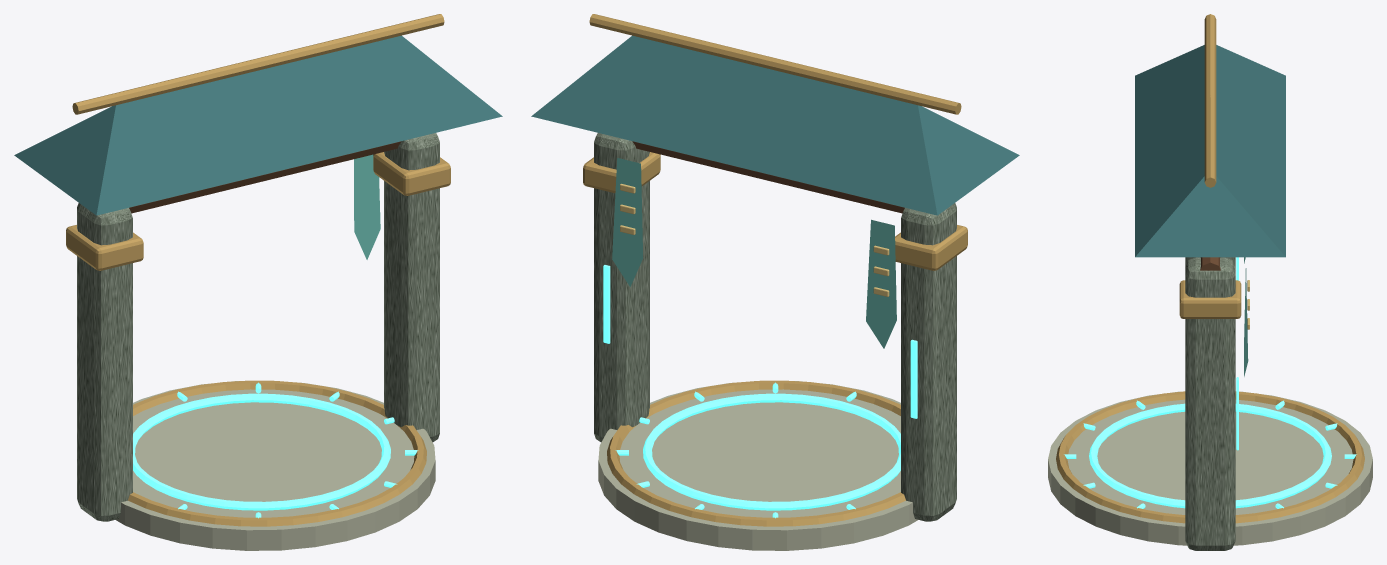
Rendered from portal.glb.
3 renders of one model, left to right at view 1: azimuth 30°, elevation 25°; view 2: azimuth 150°, elevation 25°; view 3: azimuth 270°, elevation 25°, orthographic. The views are drawn at different scales.
Visible parts, largest first — view 1: AncientGateRoof, PortalPedestal, Static_stone.003, Static_gold.003, Static_jade, Static_teal, CrossBeam; view 2: AncientGateRoof, PortalPedestal, Static_stone.003, Static_gold.003, Static_jade, Static_teal, CrossBeam, Static_gold_light; view 3: AncientGateRoof, PortalPedestal, Static_stone.003, Static_gold.003, Static_jade.
Part boxes in pixels (x1=…): AncientGateRoof: x1=14, y1=35, x2=502, y2=215; PortalPedestal: x1=115, y1=381, x2=435, y2=550; Static_stone.003: x1=77, y1=133, x2=439, y2=521; Static_gold.003: x1=66, y1=14, x2=450, y2=526; Static_jade: x1=133, y1=382, x2=418, y2=518; Static_teal: x1=354, y1=154, x2=380, y2=259; CrossBeam: x1=129, y1=141, x2=401, y2=213; AncientGateRoof: x1=531, y1=35, x2=1019, y2=215; PortalPedestal: x1=598, y1=381, x2=918, y2=550; Static_stone.003: x1=594, y1=133, x2=956, y2=521; Static_gold.003: x1=583, y1=14, x2=967, y2=526; Static_jade: x1=603, y1=265, x2=917, y2=518; Static_teal: x1=612, y1=158, x2=896, y2=348; CrossBeam: x1=632, y1=141, x2=904, y2=213; Static_gold_light: x1=620, y1=183, x2=889, y2=296; AncientGateRoof: x1=1135, y1=45, x2=1285, y2=257; PortalPedestal: x1=1048, y1=391, x2=1372, y2=545; Static_stone.003: x1=1185, y1=257, x2=1235, y2=550; Static_gold.003: x1=1056, y1=14, x2=1364, y2=523; Static_jade: x1=1064, y1=257, x2=1356, y2=508.
Size of the model in its own units: 4.1 by 4.03 by 3.1.
8 materials, 1 textured.
